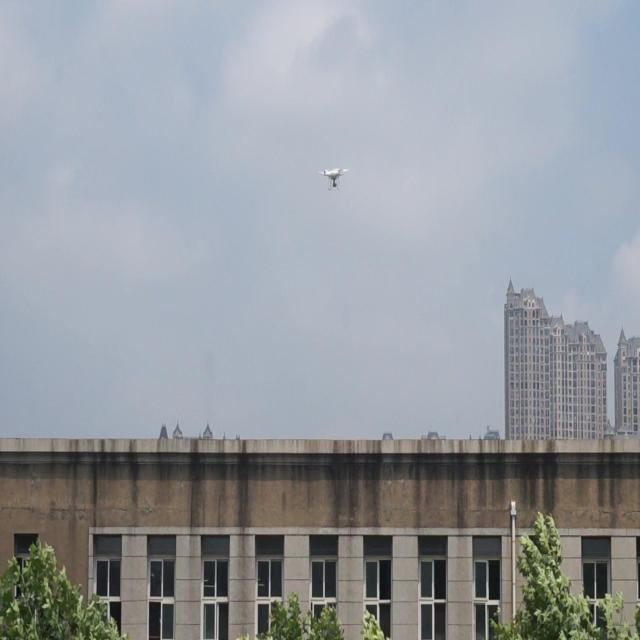drone: (316, 163, 350, 196)
